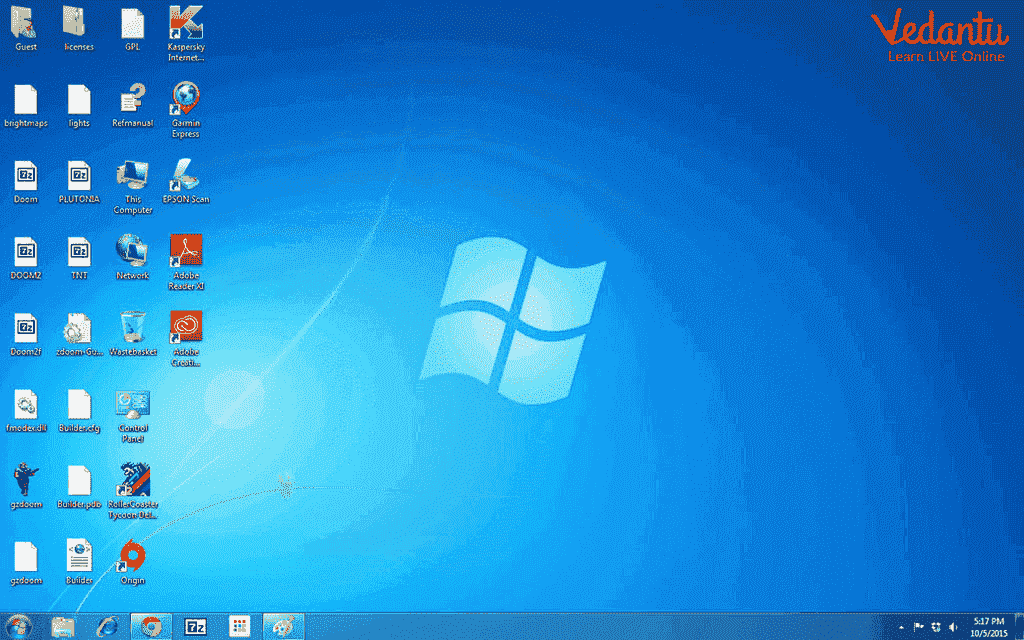start_bar: (5, 613, 37, 640)
